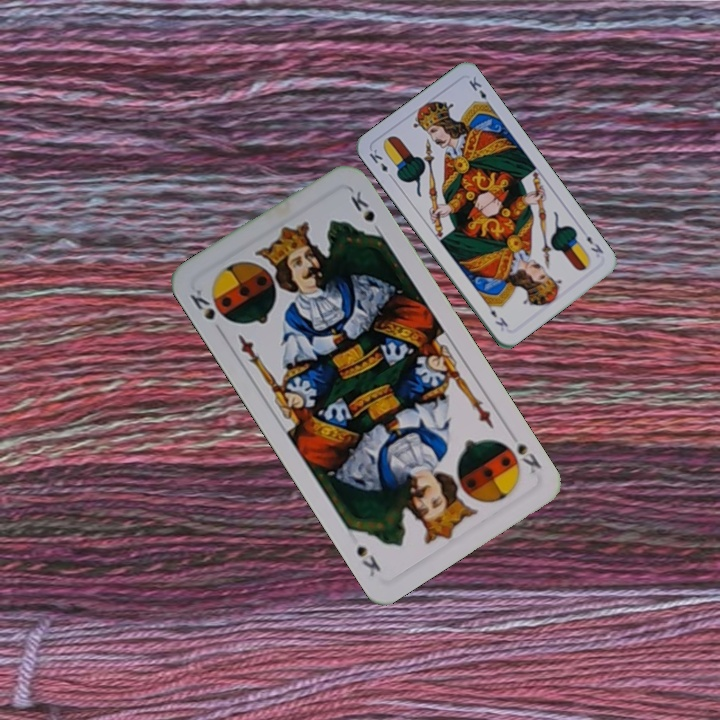EK: (365, 145, 396, 182), (582, 232, 606, 256)
SK: (497, 426, 544, 476), (186, 285, 218, 323)
